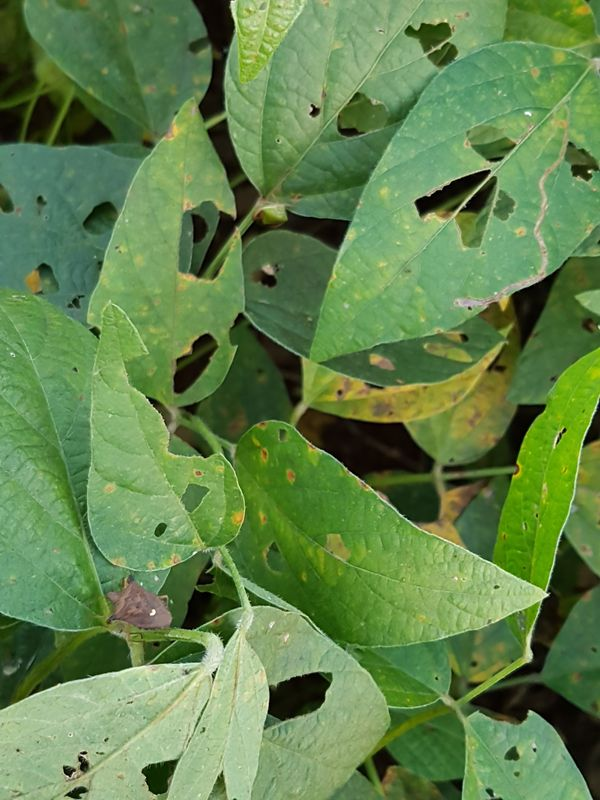Edessa_meditabunda: (248, 186, 296, 240)
Euschistus_heros_adulto: (96, 568, 182, 641)
